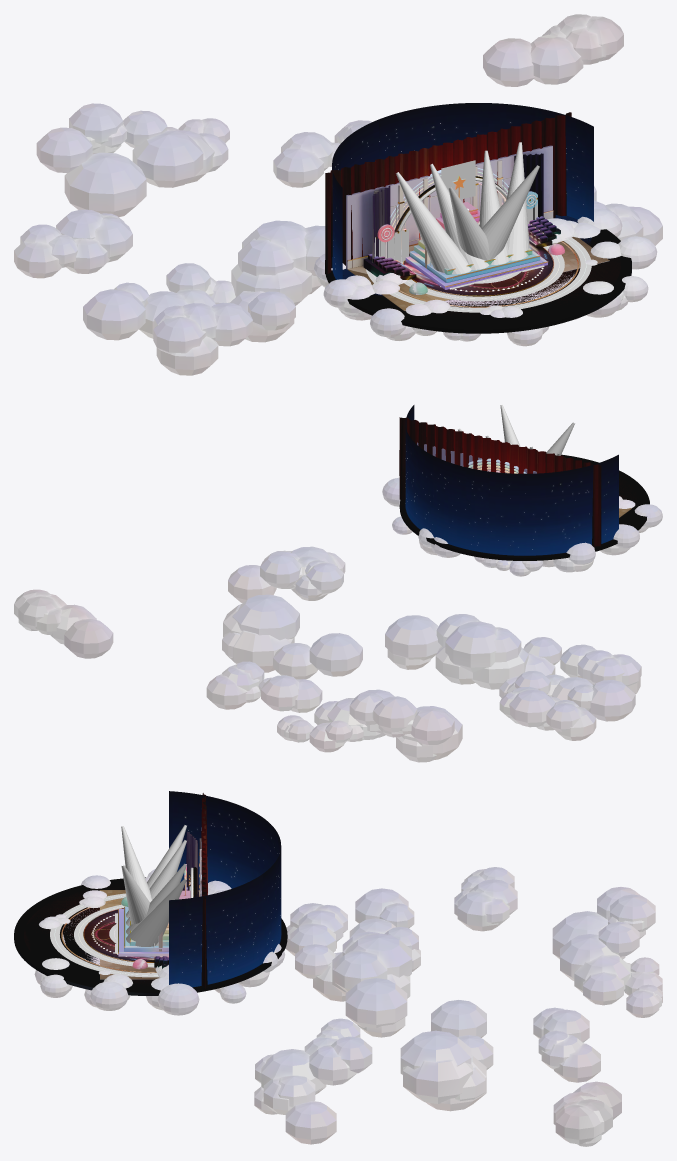
Rendered from kopfnuss-arena.glb.
The picture shows the model from 3 angles, top to bottom: view 1: azimuth 30°, elevation 25°; view 2: azimuth 150°, elevation 25°; view 3: azimuth 270°, elevation 25°; orthographic projection. The views are drawn at different scales.
Parts seen in each view (by area): view 1: SM_Pyramid, SM_Quiz, SM_Winner, SM_Doors, StageBeam, WinnerBeam.001, FloorRingGlow.002, WinnerBeam, StageBeam.003, StageBeam.002, FloorRingGlow.001, StageBeam.001 (+1 smaller); view 2: SM_Pyramid, SM_Quiz, SM_Winner; view 3: SM_Pyramid, SM_Quiz, SM_Winner, SM_Doors, StageBeam.003, FloorRingGlow.002, WinnerBeam.001, FloorRingGlow.001, WinnerBeam, StageBeam.001, StageBeam.002, StageBeam.
Boxes of the visible parts, x1,y1,x2,y2 form: SM_Pyramid: (14,14,662,375); SM_Quiz: (325,103,631,333); SM_Winner: (325,112,620,325); SM_Doors: (346,145,609,310); StageBeam: (396,172,471,274); WinnerBeam.001: (482,165,539,259); FloorRingGlow.002: (366,237,591,312); WinnerBeam: (448,187,489,260); StageBeam.003: (506,142,529,260); StageBeam.002: (479,150,509,264); FloorRingGlow.001: (401,245,564,301); StageBeam.001: (430,163,489,269); SM_Pyramid: (14,458,662,762); SM_Quiz: (399,405,649,560); SM_Winner: (399,417,640,547); SM_Pyramid: (34,862,662,1146); SM_Quiz: (14,791,287,995); SM_Winner: (24,793,207,988); SM_Doors: (100,827,201,979); StageBeam.003: (126,878,186,946); FloorRingGlow.002: (50,893,158,977); WinnerBeam.001: (121,865,149,924); FloorRingGlow.001: (74,904,154,967); WinnerBeam: (121,826,152,902); StageBeam.001: (126,840,186,926); StageBeam.002: (126,863,186,934); StageBeam: (126,825,186,918).
Bounding box in the file's own units: 95.57 × 31.44 × 92.06.
Materials: 4 (4 with a texture image).
